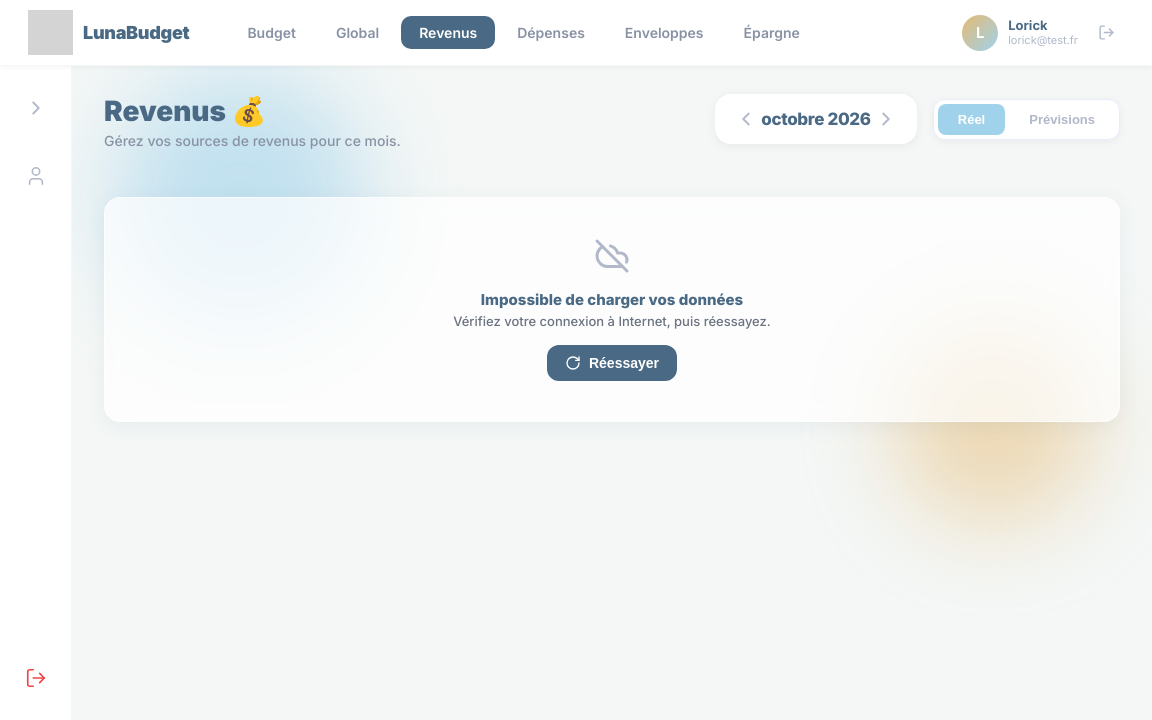
fiabilité › panne de chargement › affiche une erreur avec un bouton pour réessayer, jamais un budget vide
What coordinates should you click on to do the following:
click the button "Réessayer"
I would click on:
 (612, 363)
Its box is [547,345,677,381].
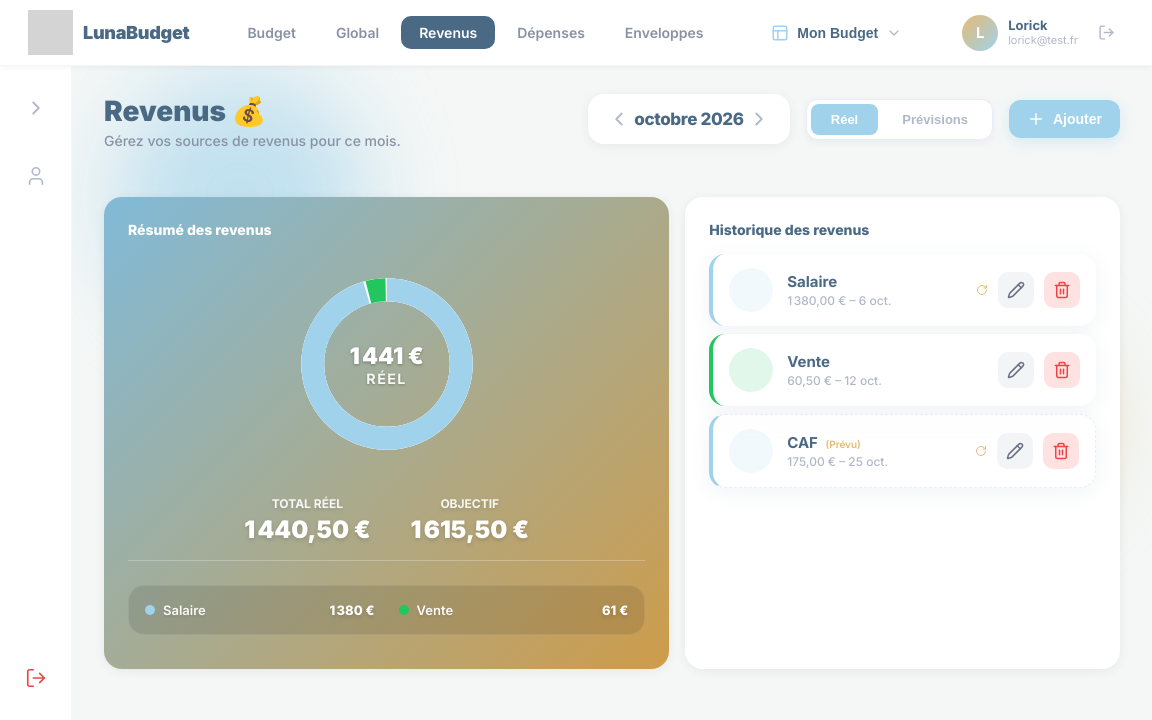
Expected: the text "Impossible de charger vos données" is gone
Expected: the element that starts with "LunaBudget" shows "Salaire", [163,602,206,618]
